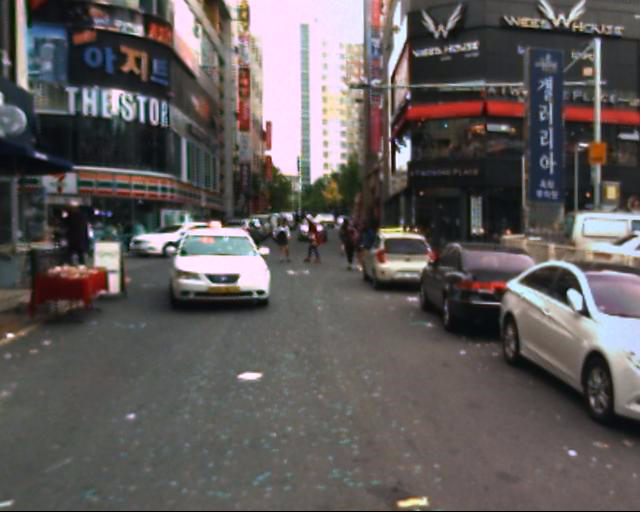person: (344, 210, 369, 269), (271, 210, 294, 271), (300, 215, 324, 271)
